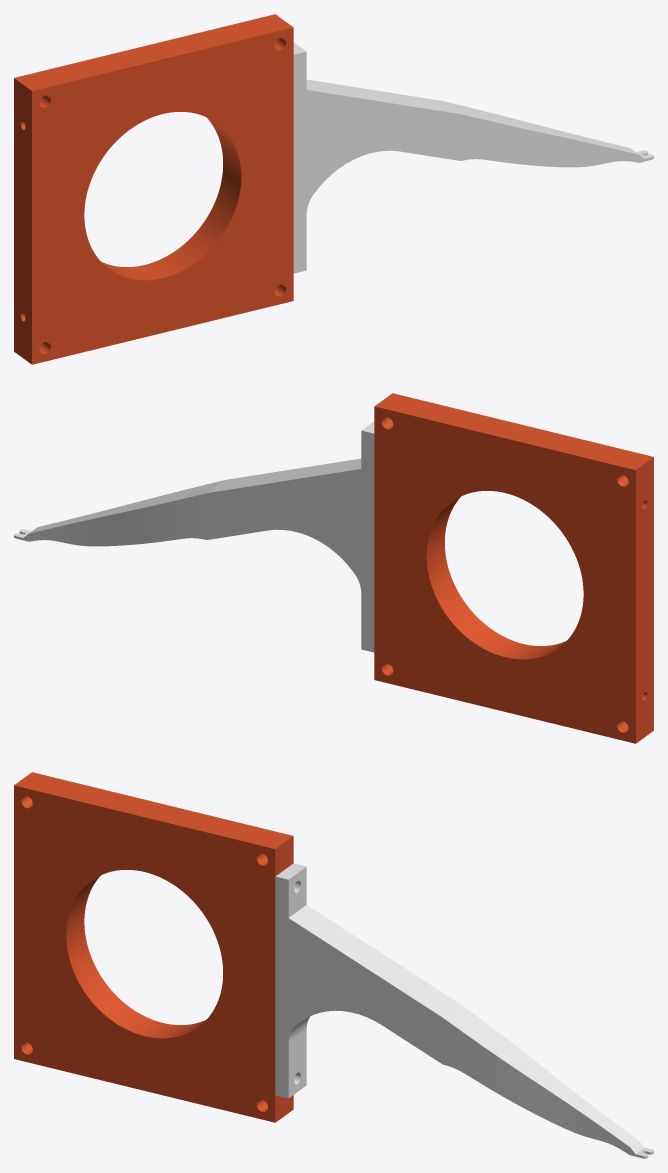
The model's file is tweezer_tool.dae.
The picture shows the model from 3 angles, top to bottom: view 1: azimuth 30°, elevation 25°; view 2: azimuth 150°, elevation 25°; view 3: azimuth 330°, elevation 25°; orthographic projection.
Visible parts, largest first — view 1: base, arm; view 2: base, arm; view 3: base, arm.
Boxes of the visible parts, <box> form: base: <box>14,14,293,364</box>; arm: <box>293,42,653,273</box>; base: <box>374,393,653,743</box>; arm: <box>14,421,374,652</box>; base: <box>14,772,293,1122</box>; arm: <box>275,863,653,1158</box>.
Bounding box in the file's own units: 0.12 × 0.006 × 0.05.
